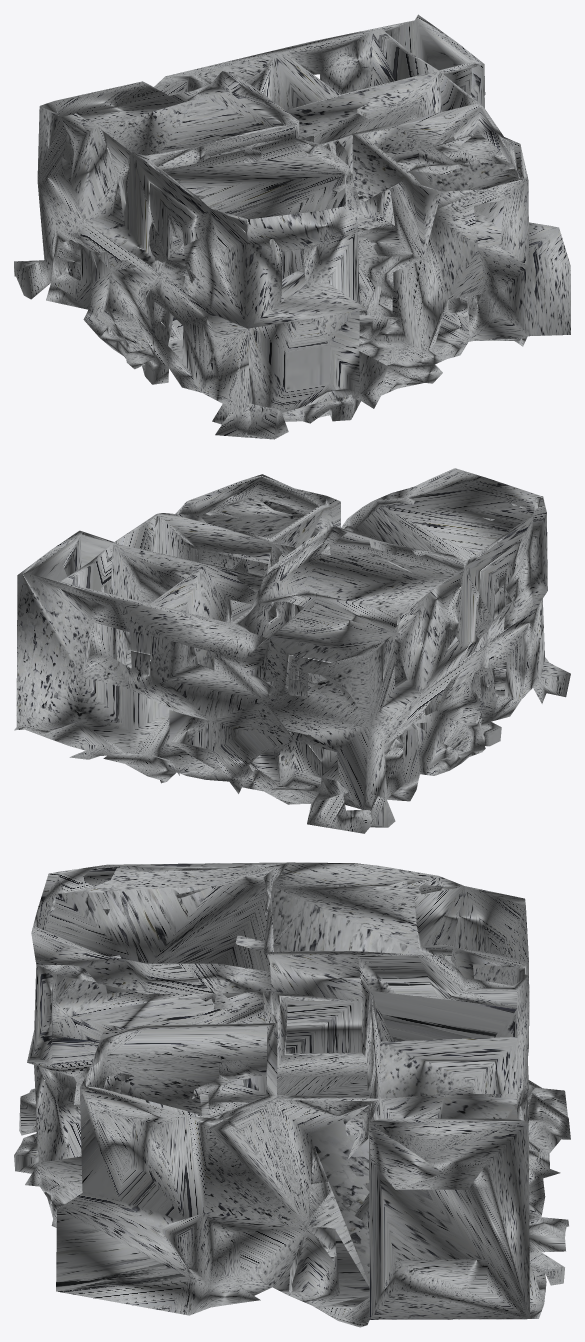
The model's file is bldg4.glb.
The picture shows the model from 3 angles, top to bottom: view 1: azimuth 30°, elevation 25°; view 2: azimuth 150°, elevation 25°; view 3: azimuth 270°, elevation 25°; orthographic projection. The views are drawn at different scales.
Size of the model in its own units: 1.87 by 0.9383 by 1.89.
Materials: 1 (1 with a texture image).
